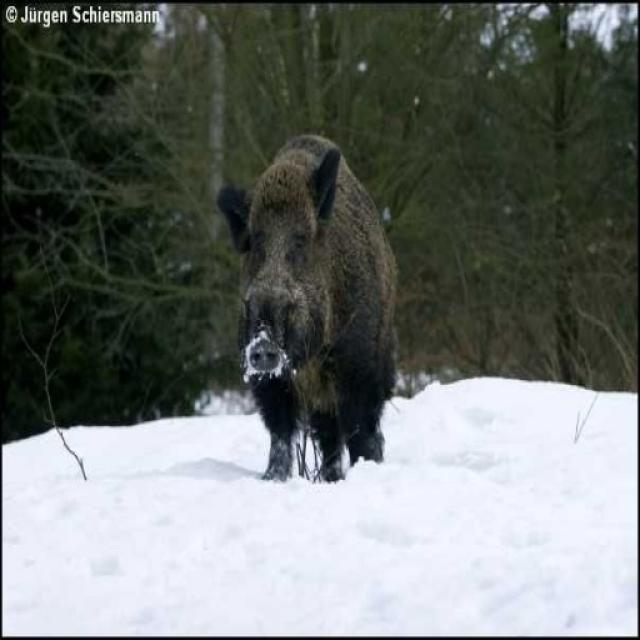pig: (224, 133, 426, 479)
